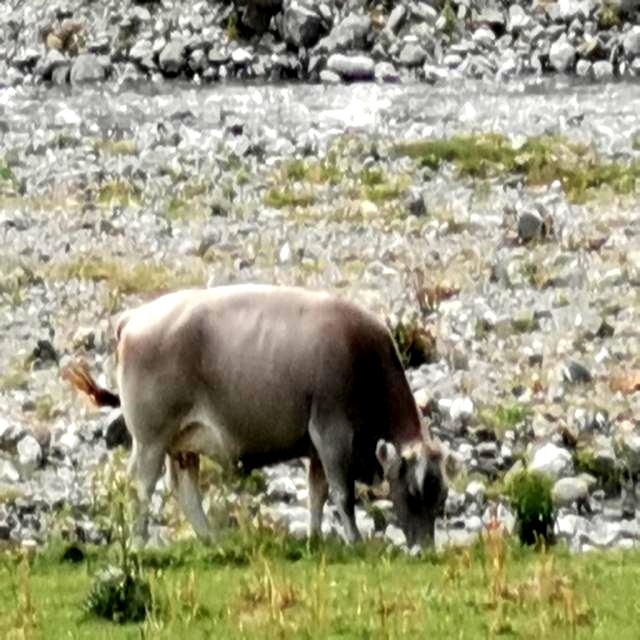COW: (118, 286, 448, 548)
